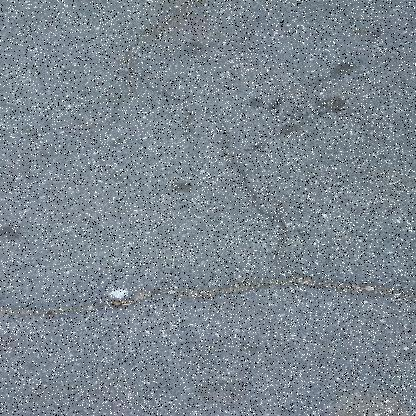Cracks: (4, 265, 416, 325)
